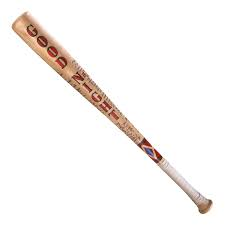baseball bat: (10, 11, 213, 214)
